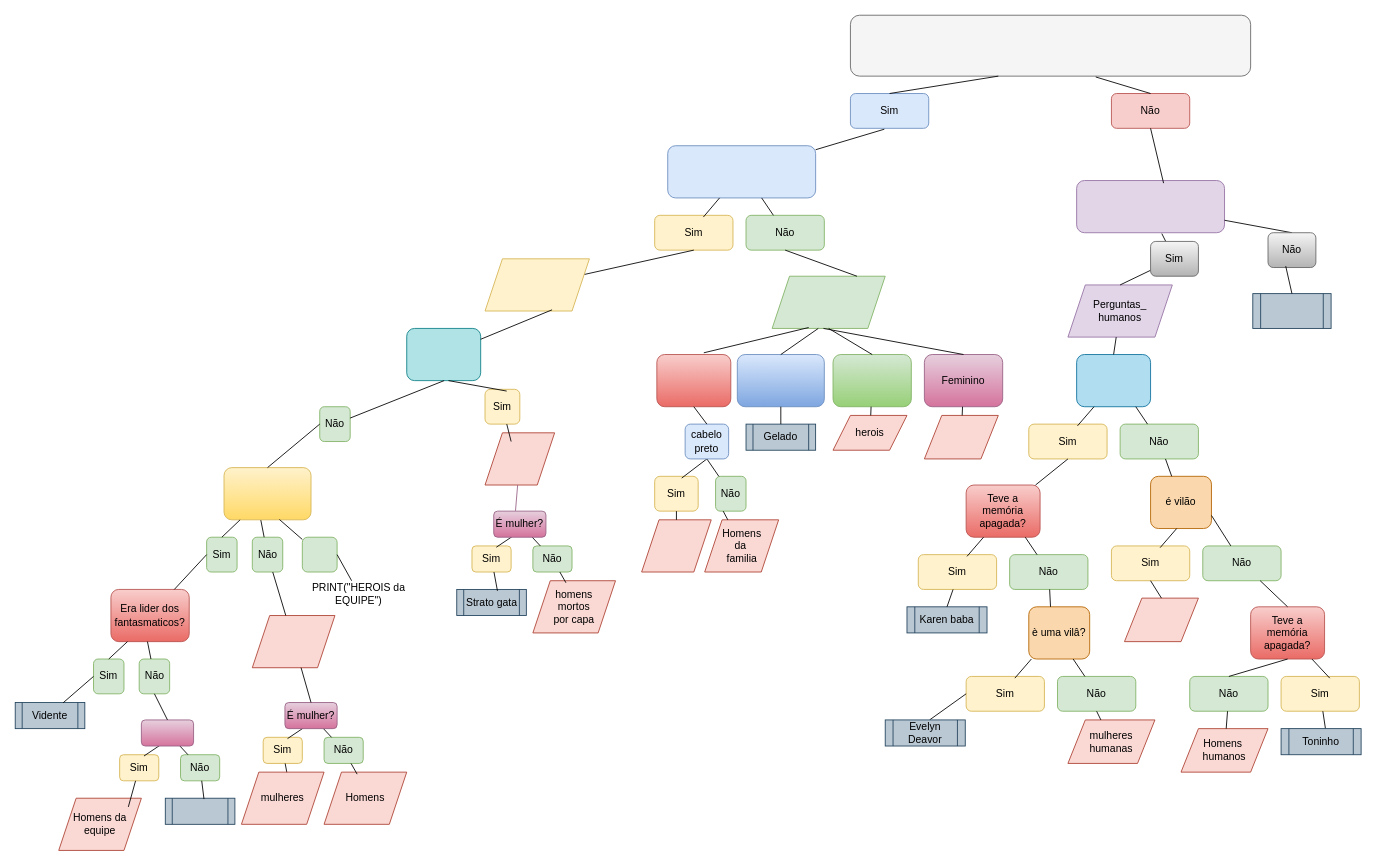
Some shapes in this 1376 by 866 pixel diagram are drawn without their labels. Each missing label, with the box of its shape:
Amigo da familia Pera: (736, 354, 824, 407)
Familia_pera: (656, 354, 731, 407)
Fazia parte dos fantasmaticos: (223, 467, 311, 520)
Foi morto por causa do uso de capa?: (406, 328, 481, 381)
heroinas: (924, 415, 998, 459)
Masculino: (832, 354, 911, 407)
morte por capa: (484, 432, 555, 485)
mulheres da familia: (641, 519, 711, 572)
Não sei: (301, 536, 337, 572)
Não_ fantasmatic: (251, 615, 335, 668)
Omnidroid: (1252, 293, 1331, 328)
Onda Psiquica: (164, 797, 235, 824)
Perguntas_ MORRERAM: (484, 258, 589, 311)
Perguntas_super heroi: (771, 275, 885, 328)
Seu personagem já morreu?: (667, 145, 816, 198)
Seu personagem é heroi?: (850, 14, 1251, 76)
Seu personagem é humano: (1076, 180, 1225, 233)
Seu personagem é mulher?: (1076, 354, 1151, 407)
Vilões: (1124, 597, 1198, 642)
È Homem?: (141, 719, 194, 746)
